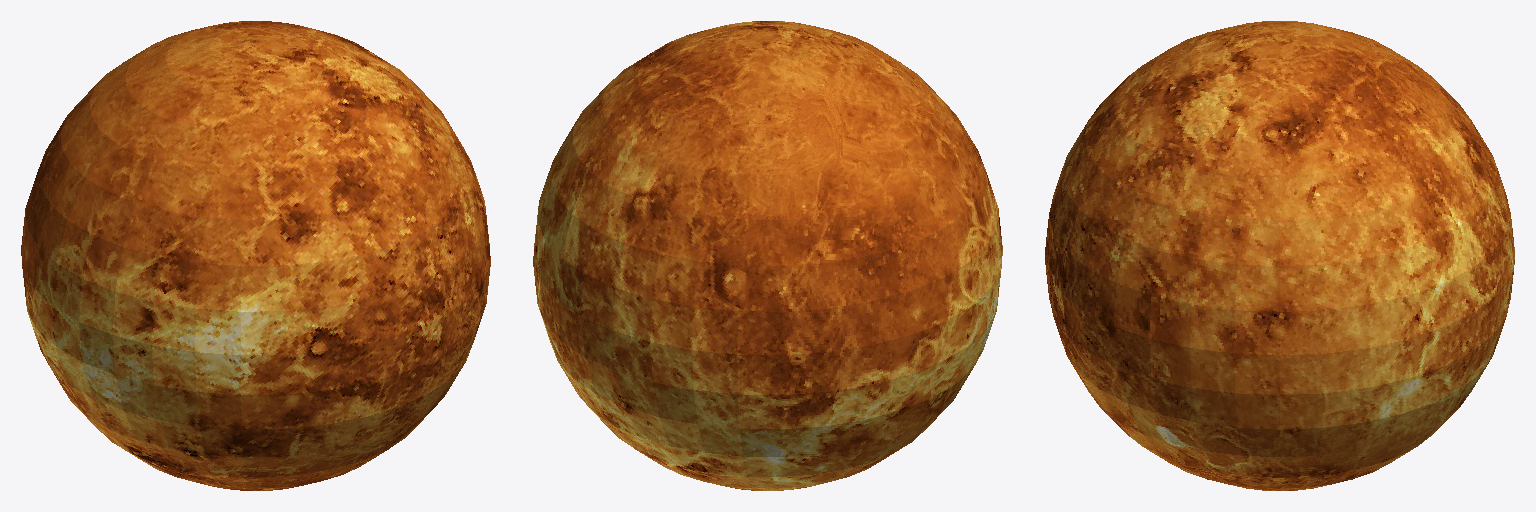
3 renders of one model, left to right at view 1: azimuth 30°, elevation 25°; view 2: azimuth 150°, elevation 25°; view 3: azimuth 270°, elevation 25°, orthographic.
Visible parts, largest first — view 1: Deimios_Moon1; view 2: Deimios_Moon1; view 3: Deimios_Moon1.
Boxes of the visible parts, x1=… form: Deimios_Moon1: x1=21, y1=21, x2=490, y2=490; Deimios_Moon1: x1=533, y1=21, x2=1002, y2=490; Deimios_Moon1: x1=1045, y1=21, x2=1514, y2=490.
Bounding box in the file's own units: 0.6169 × 0.6169 × 0.6169.
1 materials, 1 textured.